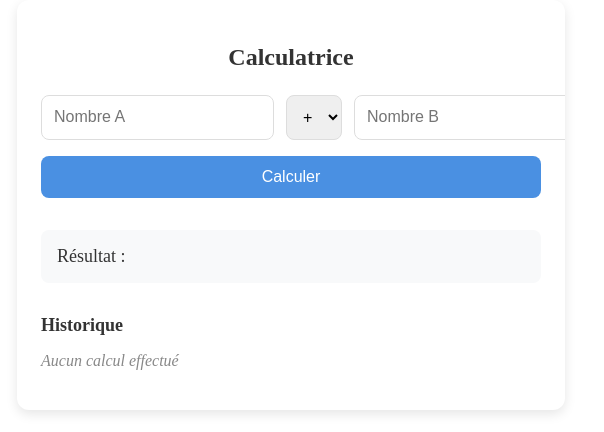
Test case: Substraction fonctionne correctement
Type "5" into the field with placeholder "Nombre A" at (158, 117), box [41,95,274,140]
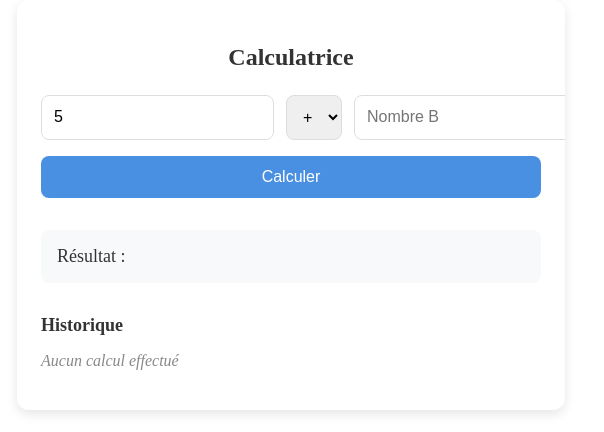
Type "3" into the field with placeholder "Nombre B" at (470, 117), box [354,95,587,140]
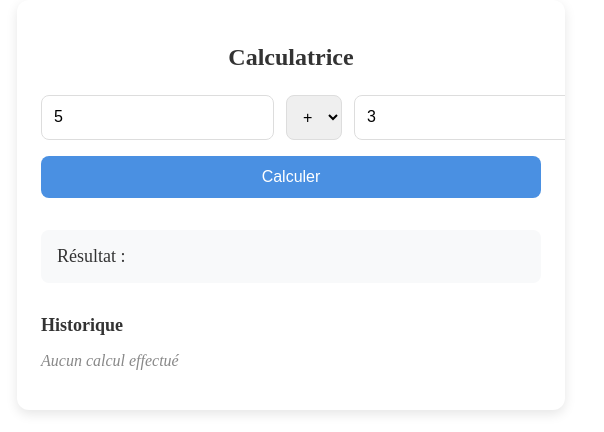
Select "−" in the dropdown at (314, 117), box [286,95,342,140]
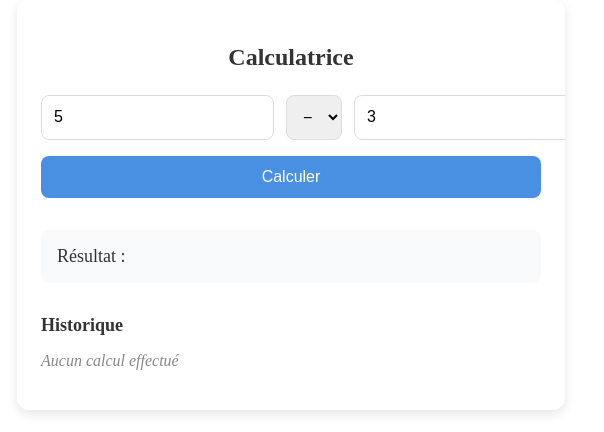
Click the button "Calculer" at (291, 177), box [41,156,541,198]
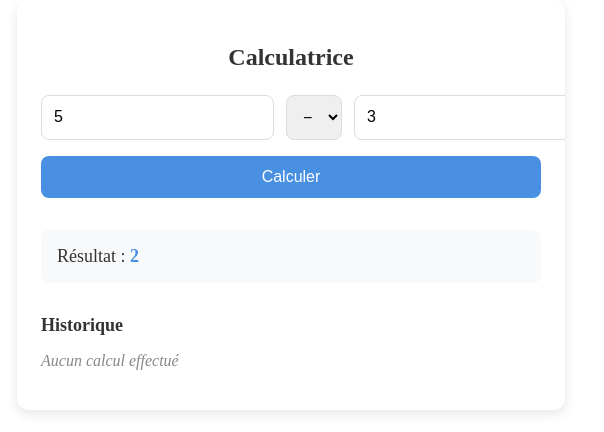
Result: the text "Résultat : 2" is shown at [57,246,139,266]
